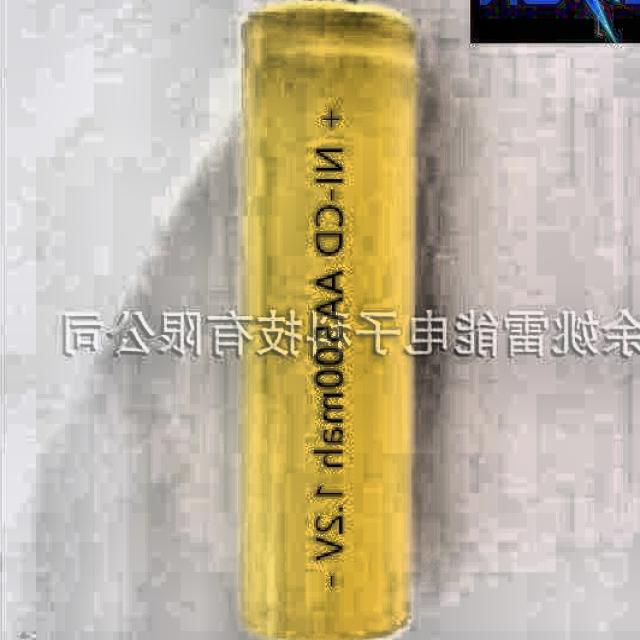Non-Valuable Waste - Batteries: (241, 0, 415, 640)
